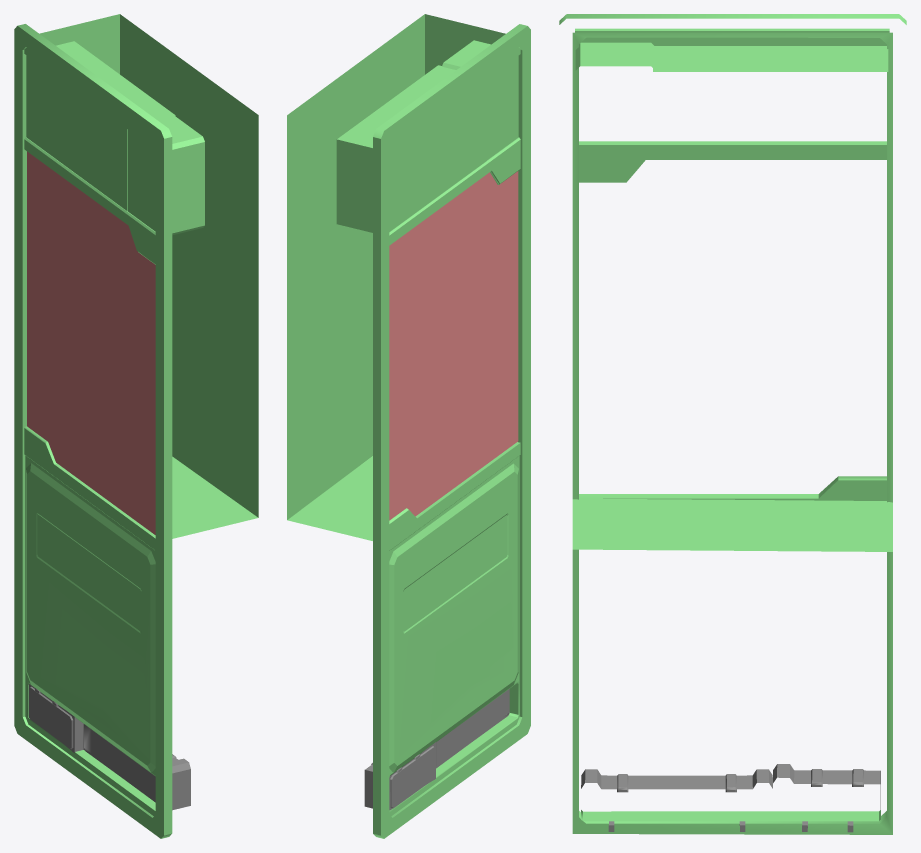
The model's file is S_Envi_Laboratory_Pipebox_001a.gltf.
3 views of the same model, side by side, from view 1: azimuth 30°, elevation 25°; view 2: azimuth 150°, elevation 25°; view 3: azimuth 270°, elevation 25° (orthographic). The views are drawn at different scales.
Visible parts, largest first — view 1: S_Envi_Laboratory_Pipebox_001a; view 2: S_Envi_Laboratory_Pipebox_001a; view 3: S_Envi_Laboratory_Pipebox_001a.
Part boxes in pixels (bbox=[...]): S_Envi_Laboratory_Pipebox_001a: bbox=[14, 14, 258, 838]; S_Envi_Laboratory_Pipebox_001a: bbox=[287, 14, 530, 838]; S_Envi_Laboratory_Pipebox_001a: bbox=[559, 14, 906, 834].
Size of the model in its own units: 1.07 by 7.24 by 2.78.
